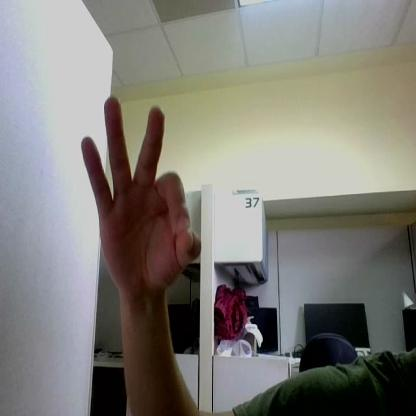F: (81, 100, 201, 294)
